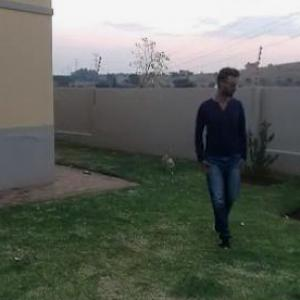follow: (190, 62, 239, 234)
